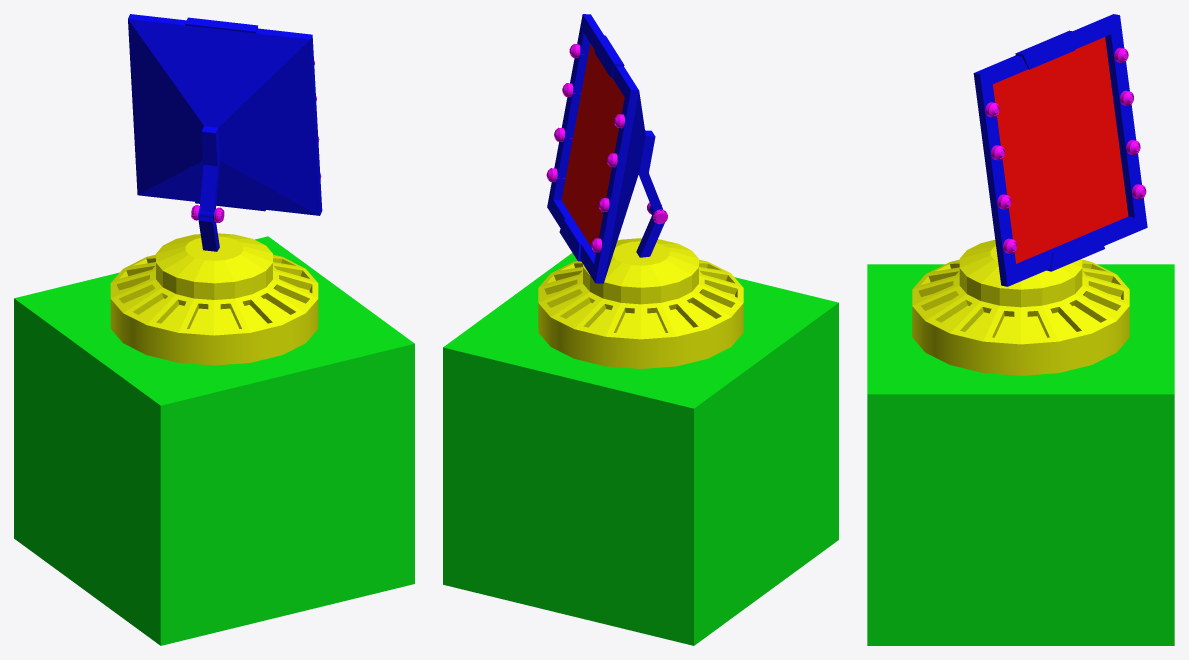
The model's file is LasersMirrorsAngle.fbx.
The picture shows the model from 3 angles, left to right: view 1: azimuth 30°, elevation 25°; view 2: azimuth 150°, elevation 25°; view 3: azimuth 270°, elevation 25°; orthographic projection. The views are drawn at different scales.
Parts seen in each view (by area): view 1: Box001, Box002, Cylinder001; view 2: Box001, Cylinder001, Box002; view 3: Box001, Box002, Cylinder001.
Boxes of the visible parts, bbox=[...] form: Box001: bbox=[14, 236, 414, 645]; Box002: bbox=[128, 14, 322, 251]; Cylinder001: bbox=[110, 233, 318, 365]; Box001: bbox=[443, 253, 838, 645]; Cylinder001: bbox=[538, 238, 743, 368]; Box002: bbox=[547, 14, 664, 283]; Box001: bbox=[867, 264, 1174, 645]; Box002: bbox=[973, 14, 1147, 286]; Cylinder001: bbox=[912, 240, 1129, 375].
Size of the model in its own units: 39.37 by 77.57 by 39.37.
